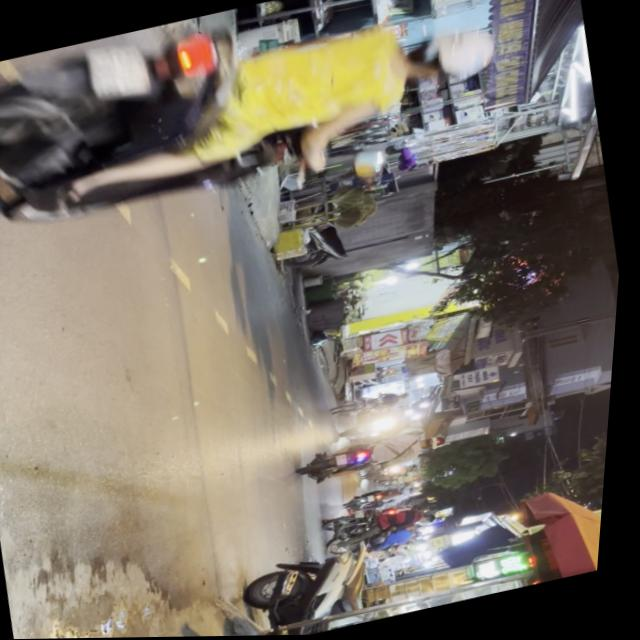helmet: (400, 20, 504, 93)
licenseplate: (0, 0, 521, 251)
nohelmet: (86, 36, 155, 102)
